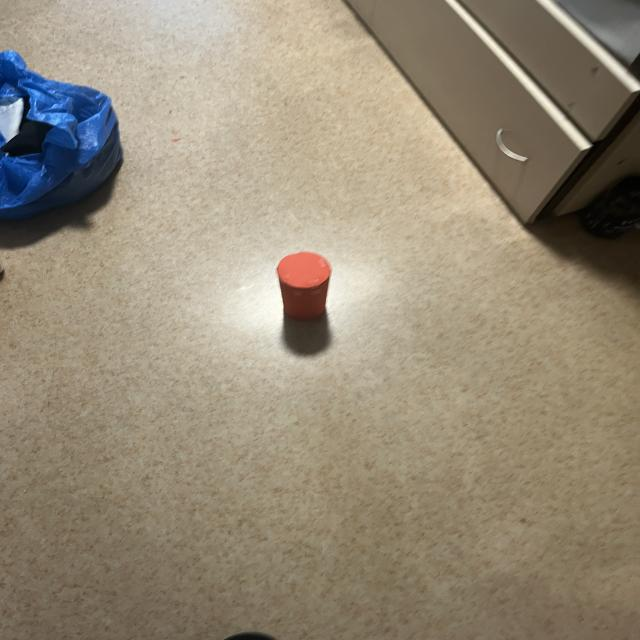przeszkoda: (277, 252, 331, 320)
